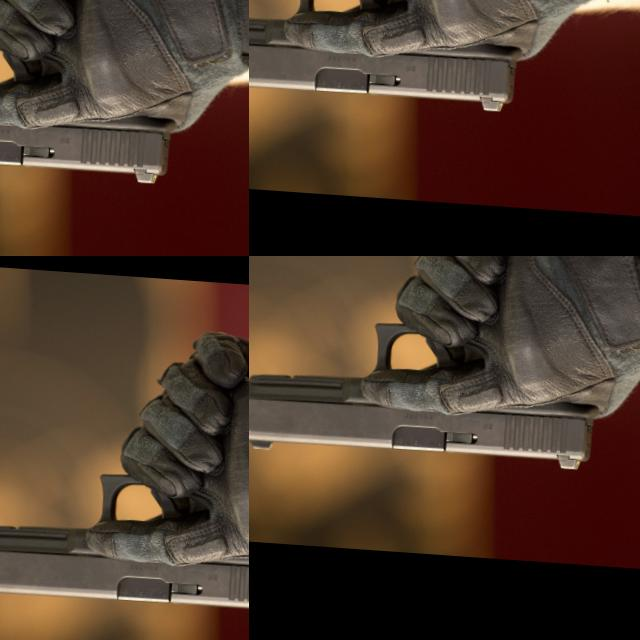handgun: (249, 308, 605, 476), (100, 427, 249, 640), (472, 0, 636, 36)
